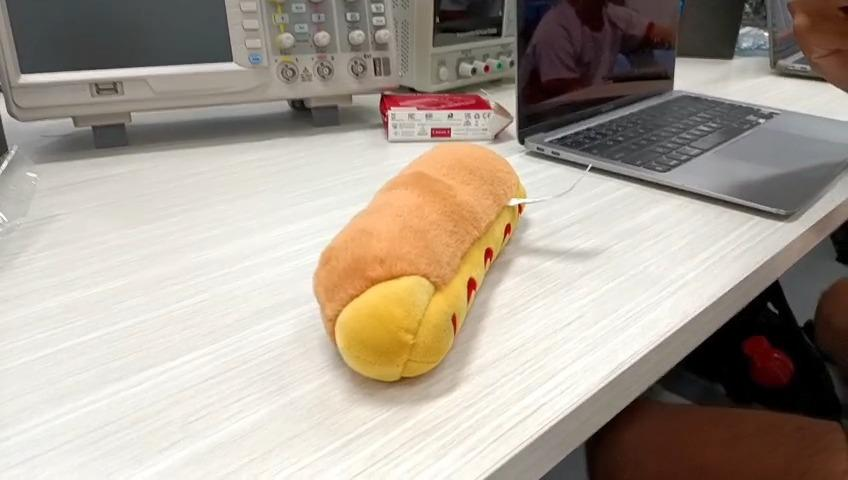hotdog: (314, 144, 527, 382)
